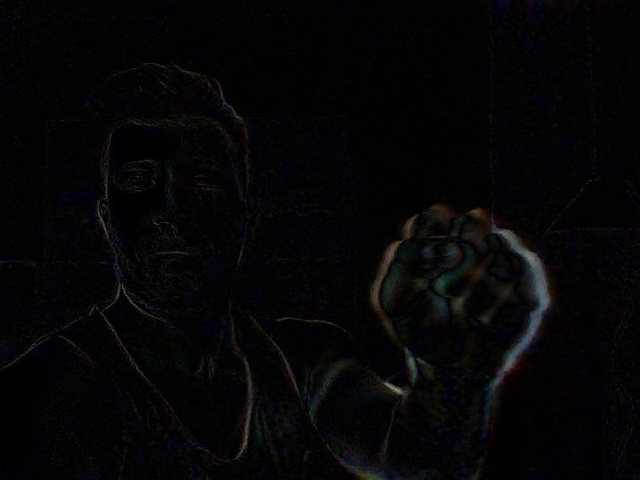hand_fi: (367, 191, 558, 392)
